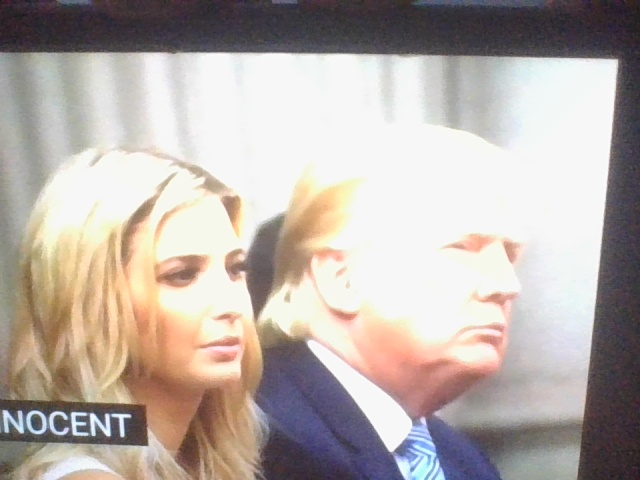fake: (89, 153, 267, 406)
